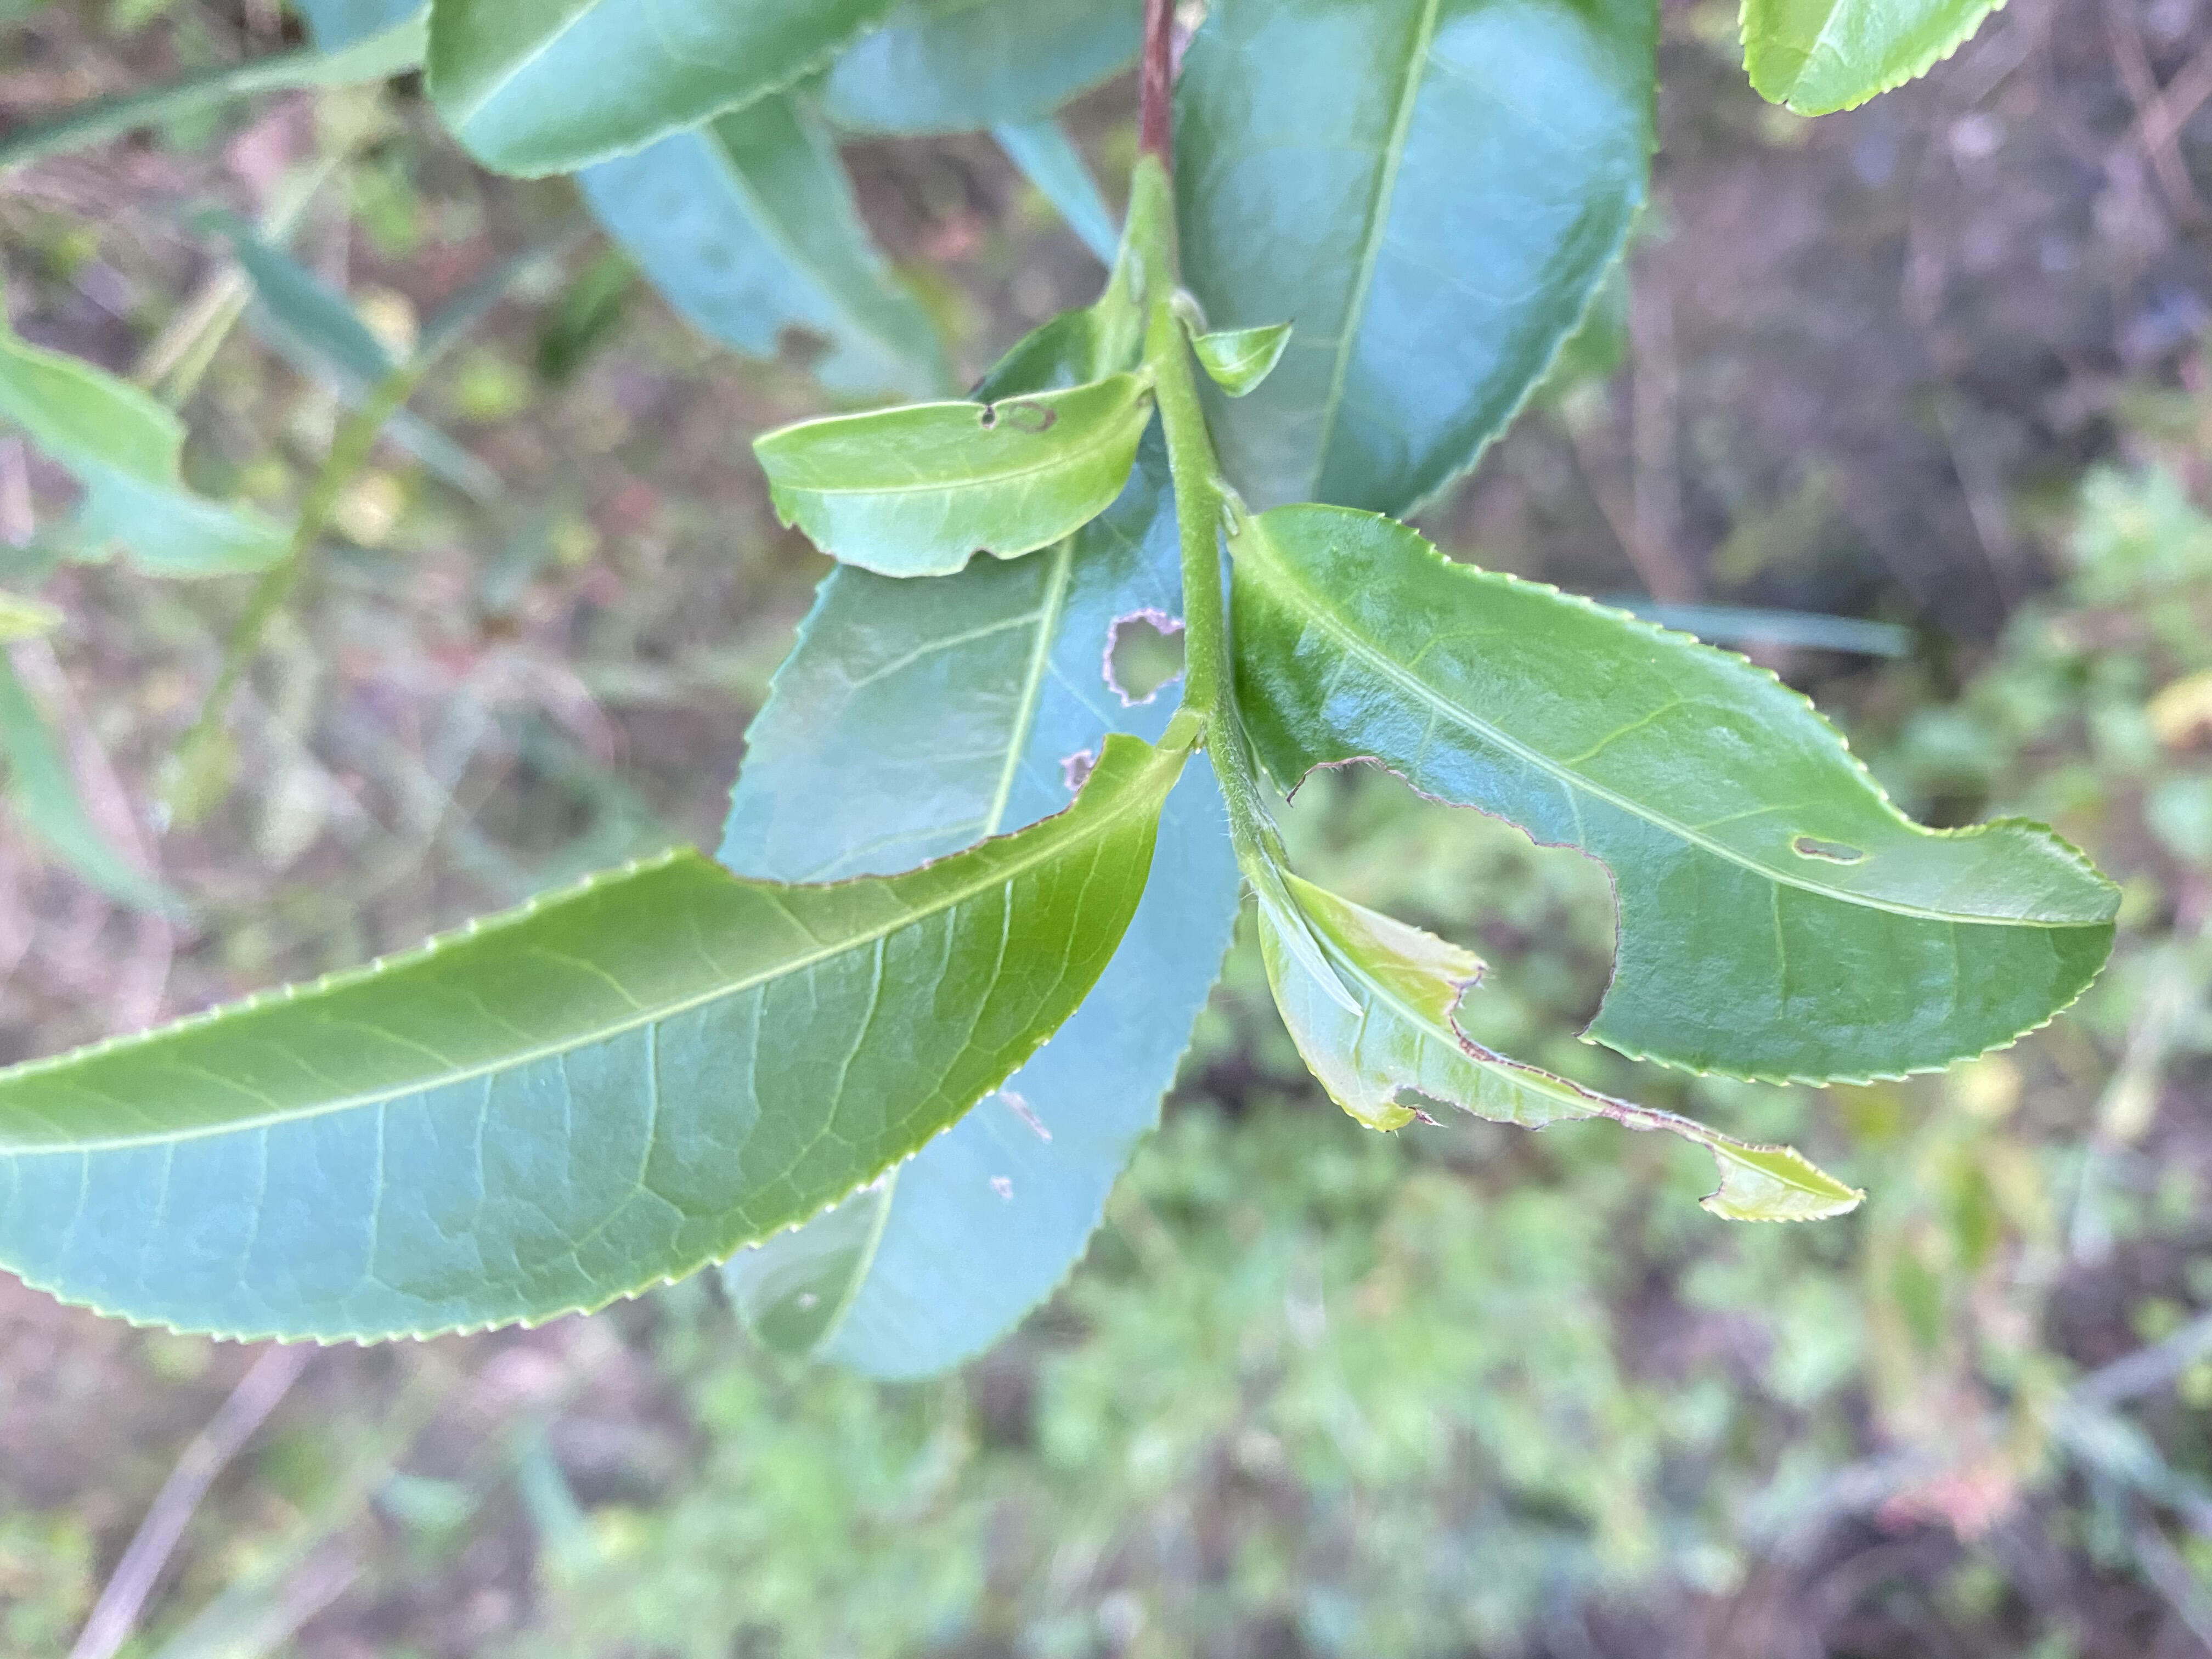chihuo_high: (1231, 505, 2127, 1086), (1254, 870, 1865, 1223), (751, 375, 1155, 580)
chihuo_low: (3, 734, 1167, 1351)
